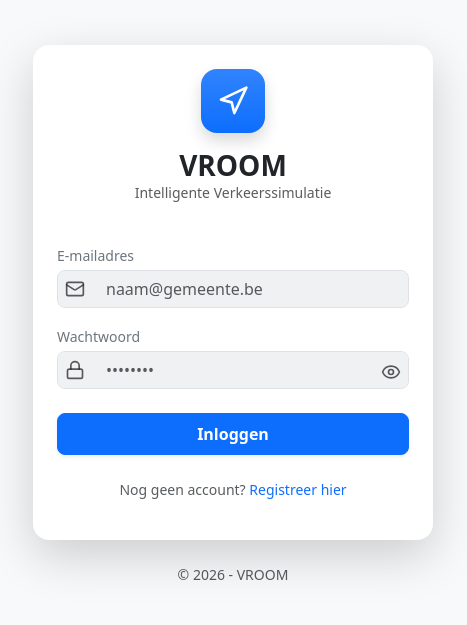
Test: LoginView › shows error message on failed login
Type "test@test.be" into the field with id "email".
click(233, 289); type("test@test.be")  # box [57,270,409,308]
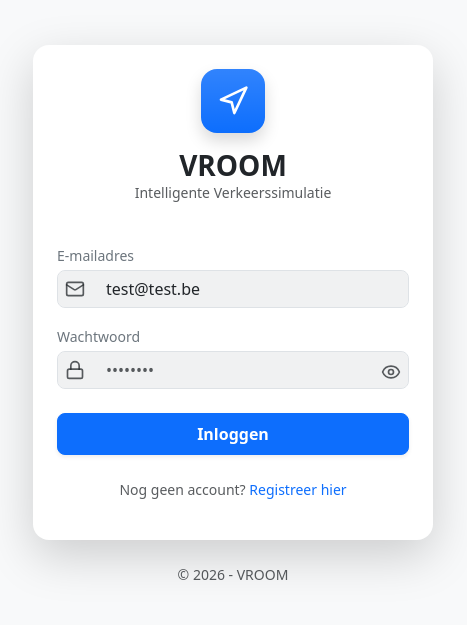
Type "password123" into the password field labelled "Wachtwoord".
click(233, 370); type("password123")  # box [57,351,409,389]
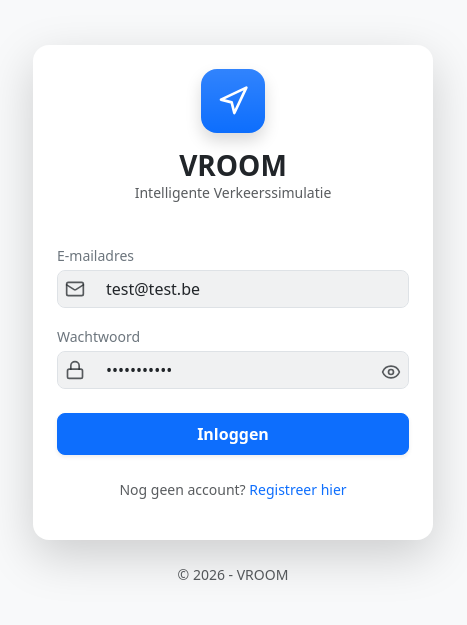
Submit the form, box [57,243,409,455]
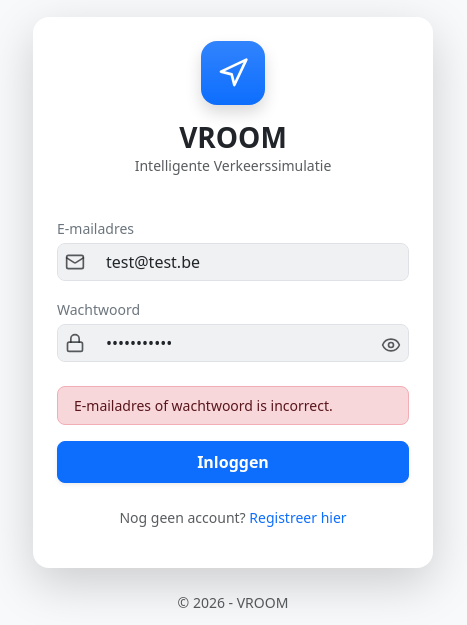
Check: the message "E-mailadres of wachtwoord is incorrect." is shown, box [57,386,409,425]
Check: the message with class "alert-danger" reads "E-mailadres of wachtwoord is incorrect.", box [74,396,333,415]
